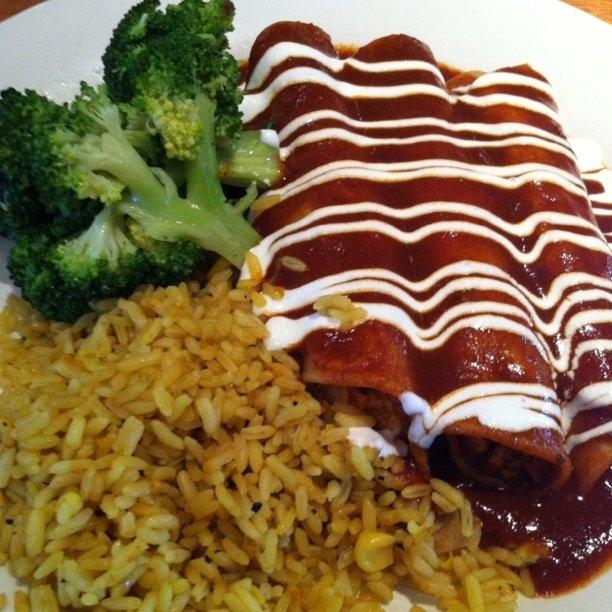broccoli: (43, 29, 263, 271), (7, 203, 149, 323), (0, 87, 93, 240), (124, 214, 213, 289), (218, 130, 282, 192), (123, 130, 170, 170)
corn: (354, 528, 398, 572), (54, 492, 84, 526), (127, 500, 154, 520)
